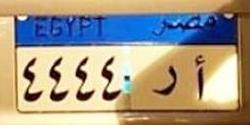4: (74, 56, 95, 103), (22, 55, 42, 103), (48, 56, 67, 103), (101, 55, 119, 103)
alif: (191, 53, 209, 100)
raa: (153, 65, 180, 97)
